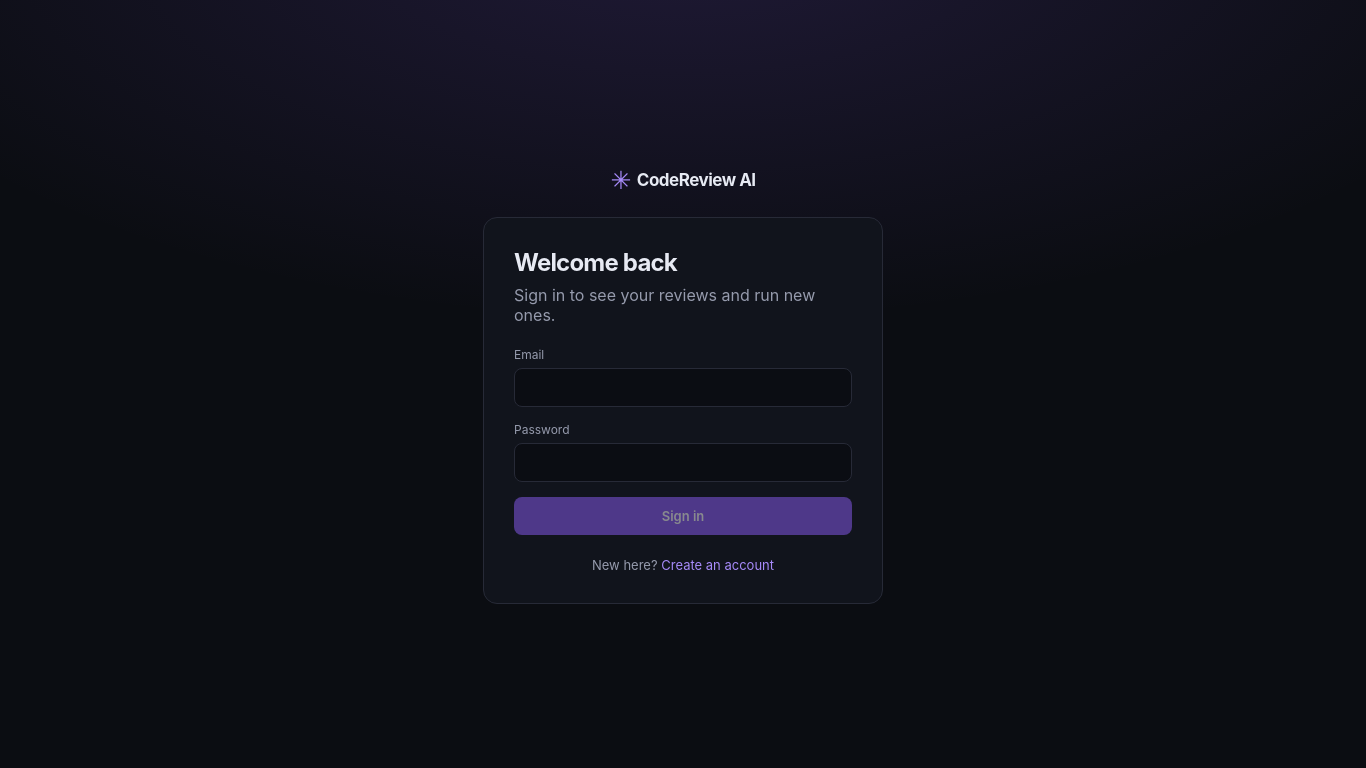
Scenario: login › shows the server error and stays on the page when credentials are wrong
This screenshot has width=1366, height=768.
In the field labelled "Email": (683, 387) [514, 368, 852, 406], type "ada@example.com"
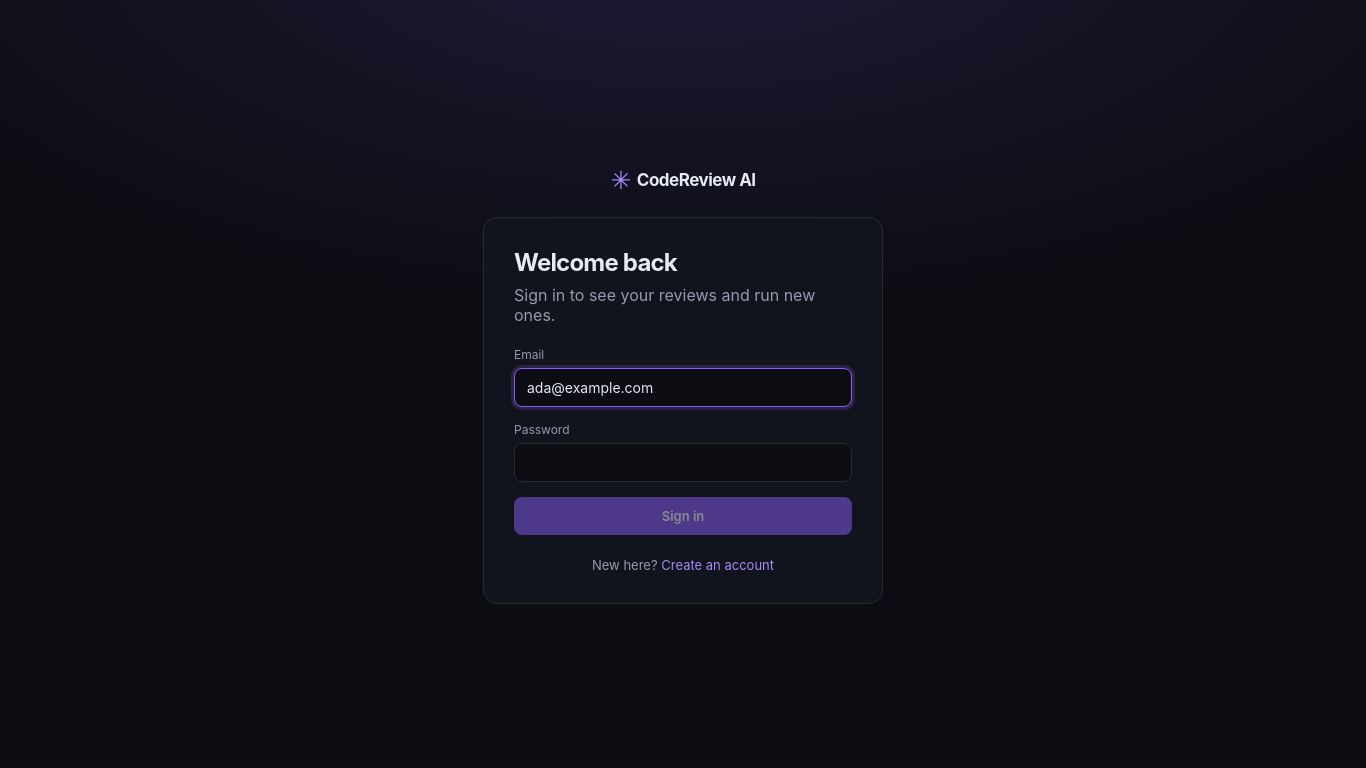
In the password field labelled "Password": (683, 462) [514, 442, 852, 482], type "nope"
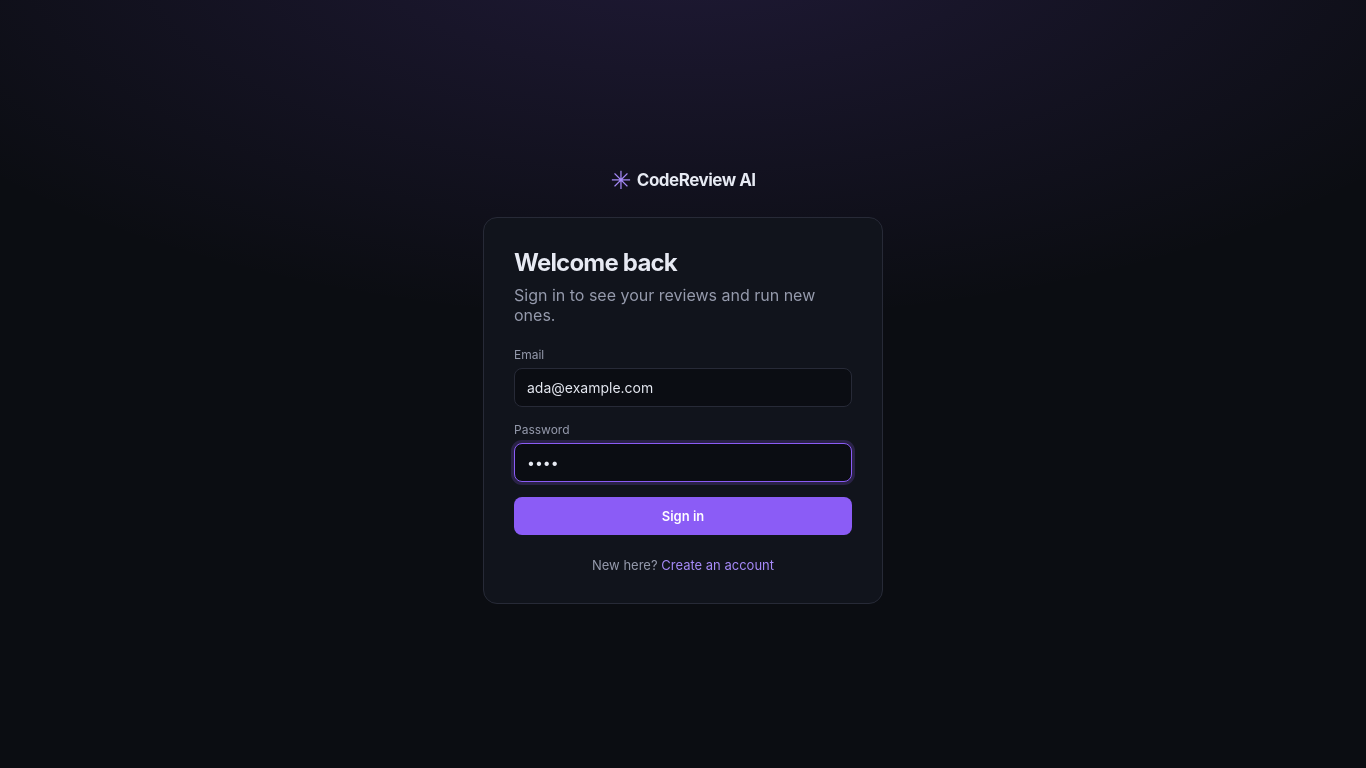
Click the button "Sign in": (683, 516) [514, 496, 852, 534]
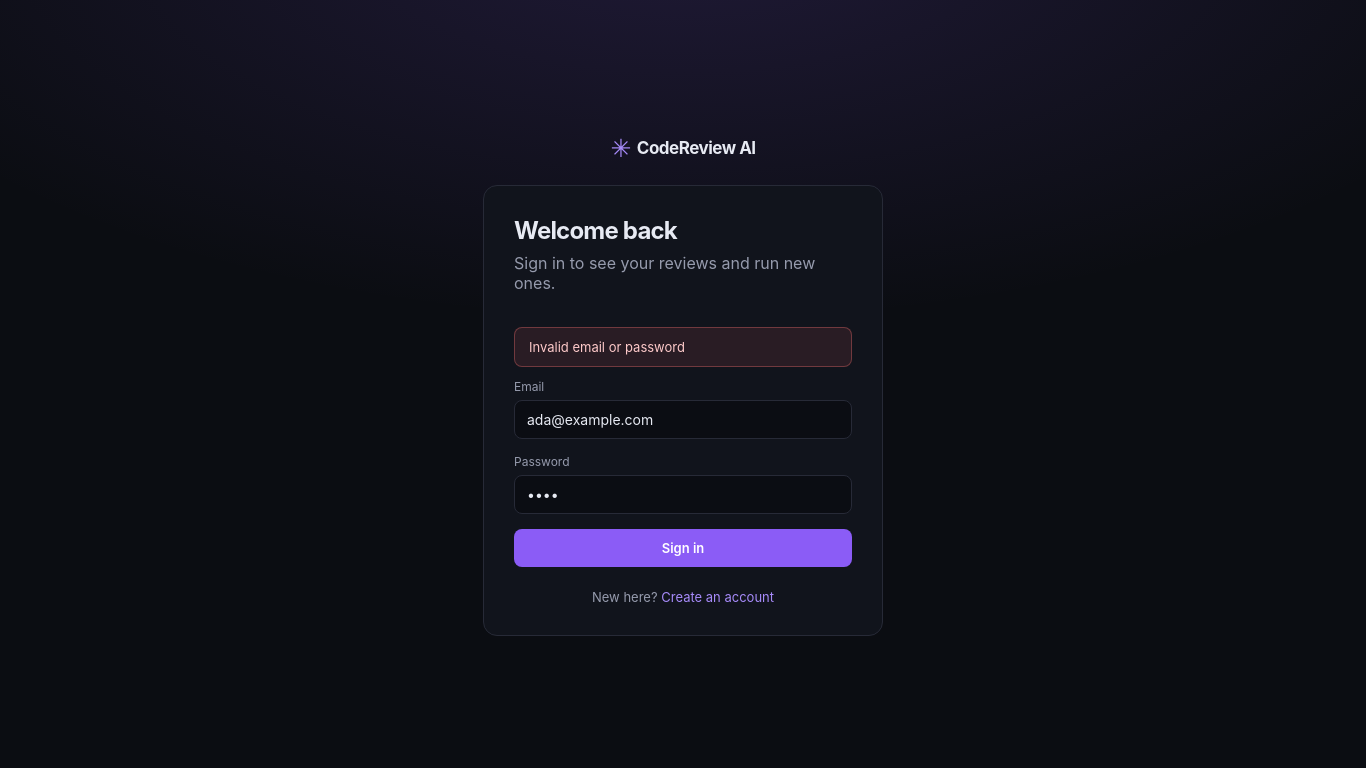
expect the message reads "Invalid email or password": met, box [529, 338, 685, 354]
